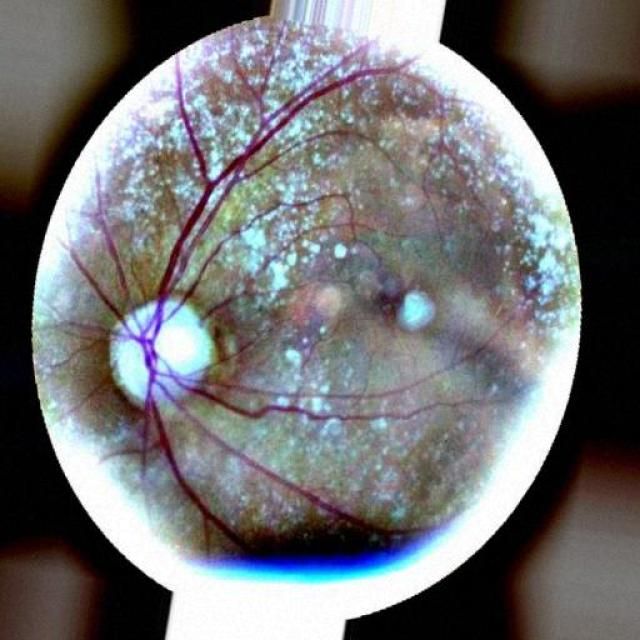Macula: (346, 262, 412, 327)
Nerves: (145, 67, 452, 350), (146, 364, 320, 533), (188, 384, 498, 421)
Optic Disk: (106, 296, 219, 416)
